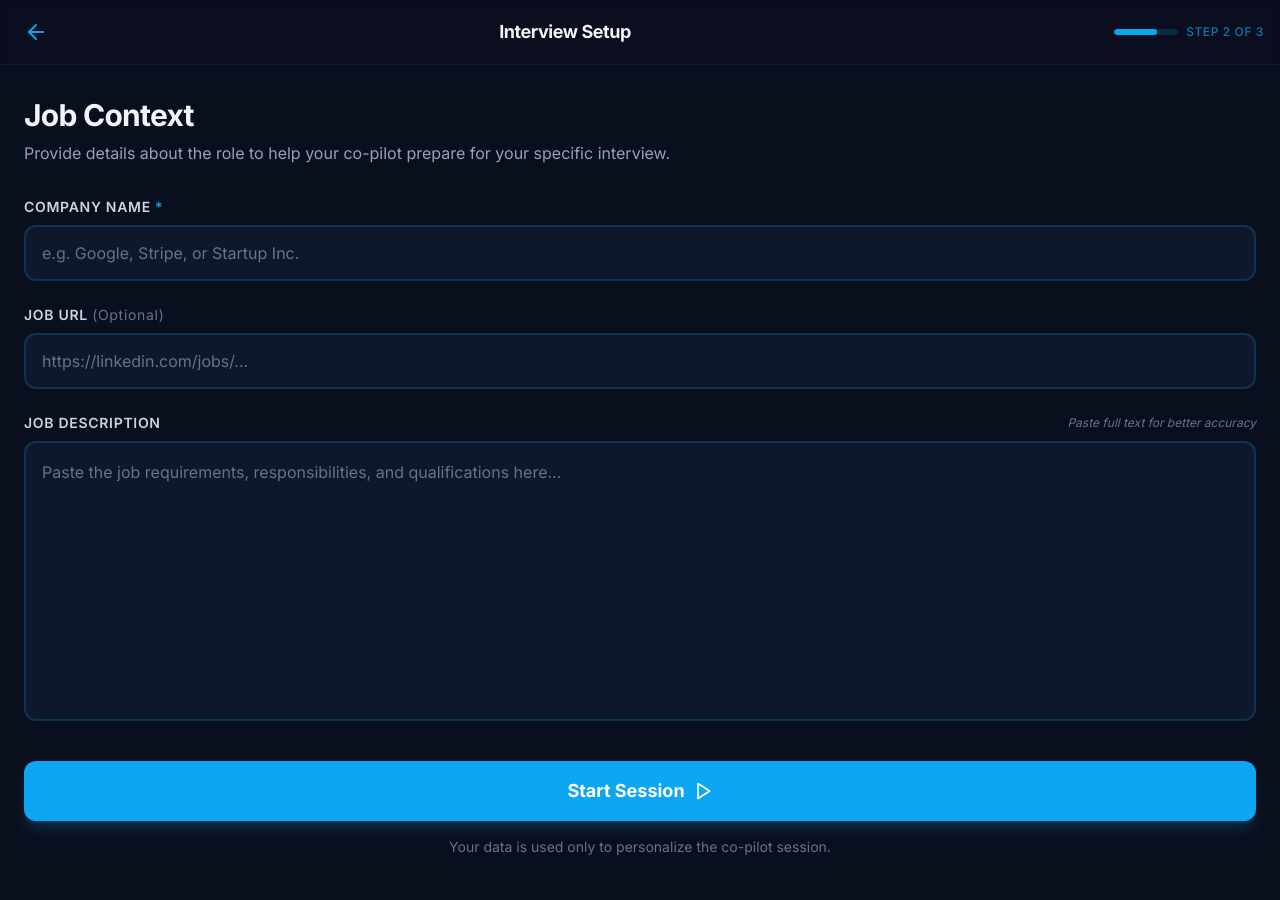
Test: JobContextScreen › shows a validation error when Start Session is clicked with no company name
Click the button "Start Session" at [640, 791], box top-left (24, 761), bottom-right (1256, 821)
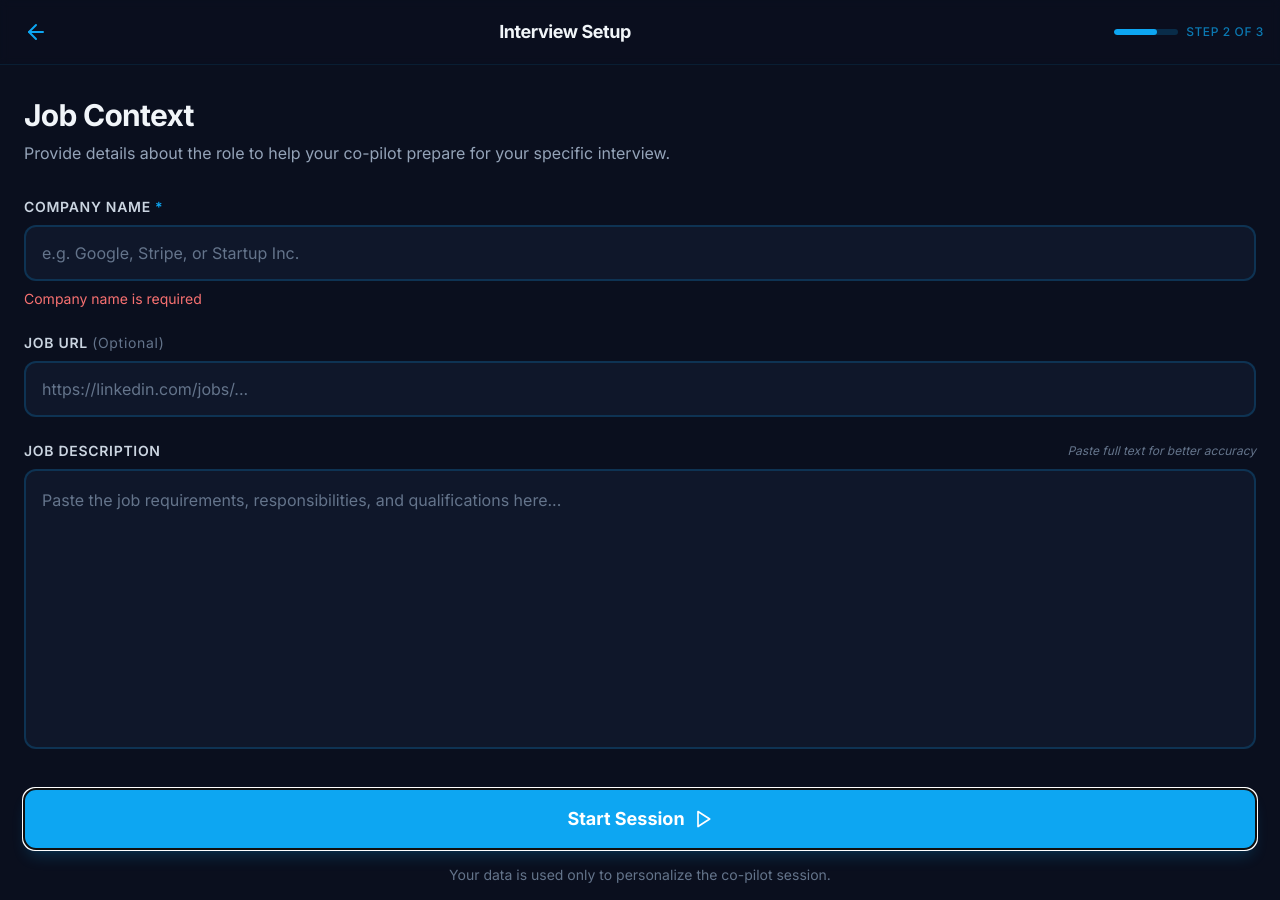
Expected: the message "Company name is required" is shown, top-left (24, 290), bottom-right (202, 307)
